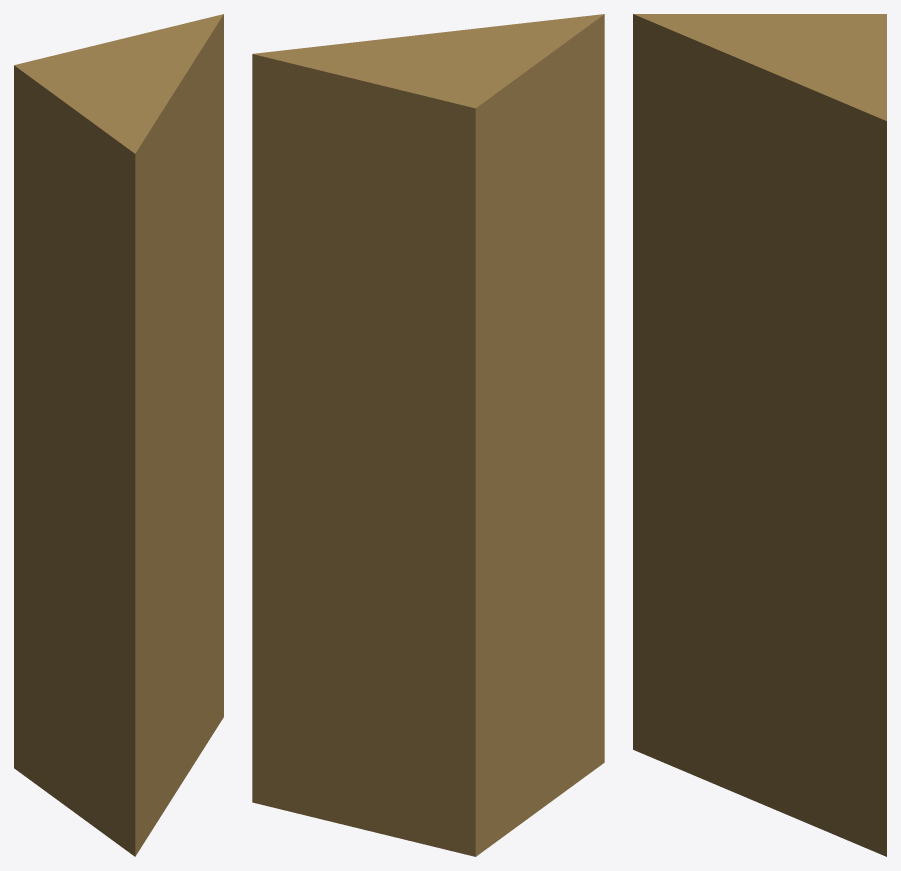
File: Terrain_Modular_Tiles_Dirt_Cliff_Side_Corner_01.fbx
The picture shows the model from 3 angles, left to right: view 1: azimuth 30°, elevation 25°; view 2: azimuth 150°, elevation 25°; view 3: azimuth 270°, elevation 25°; orthographic projection. The views are drawn at different scales.
Parts seen in each view (by area): view 1: Terrain_Modular_Tiles_Dirt_Cliff_Side_Corner_01; view 2: Terrain_Modular_Tiles_Dirt_Cliff_Side_Corner_01; view 3: Terrain_Modular_Tiles_Dirt_Cliff_Side_Corner_01.
Part boxes in pixels (x1,y1,x2,y2): Terrain_Modular_Tiles_Dirt_Cliff_Side_Corner_01: (14, 14, 223, 856); Terrain_Modular_Tiles_Dirt_Cliff_Side_Corner_01: (252, 14, 604, 856); Terrain_Modular_Tiles_Dirt_Cliff_Side_Corner_01: (633, 14, 886, 856).
Size of the model in its own units: 750 by 2400 by 750.
